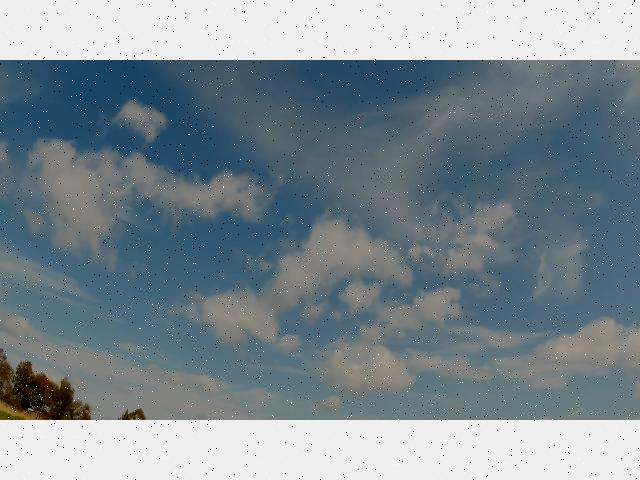Anti-Drone: (334, 103, 384, 137)
